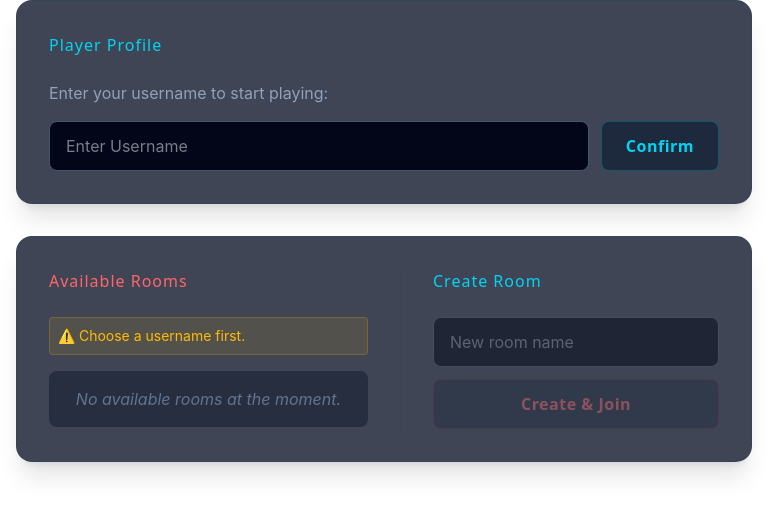
Test: Frontpage: username › shows the server error
The image size is (769, 524).
In the field with placeholder "Enter Username": {"x": 319, "y": 146} [49,121,589,171], type "alice"
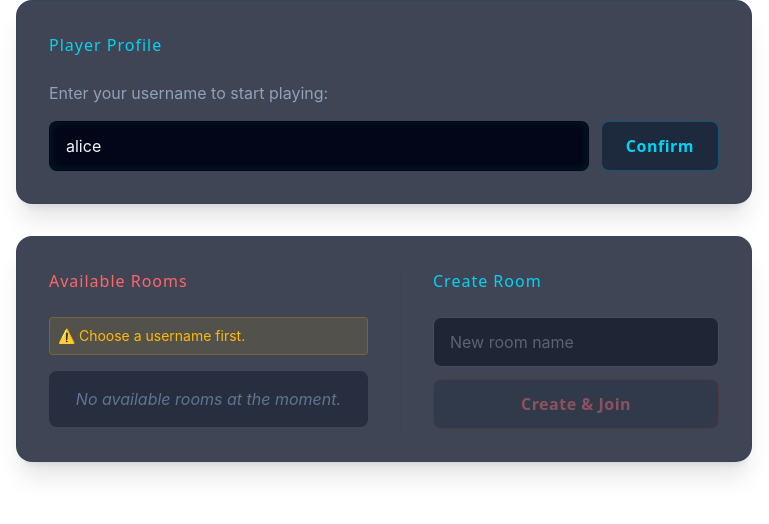
Click the button "Confirm": {"x": 660, "y": 146} [601,121,719,171]
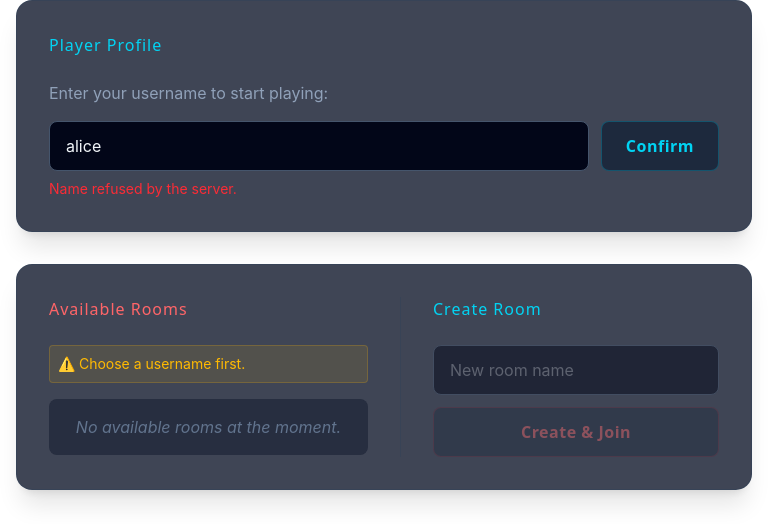
Check: the text "Name refused by the server." is shown, box [49,180,237,197]
